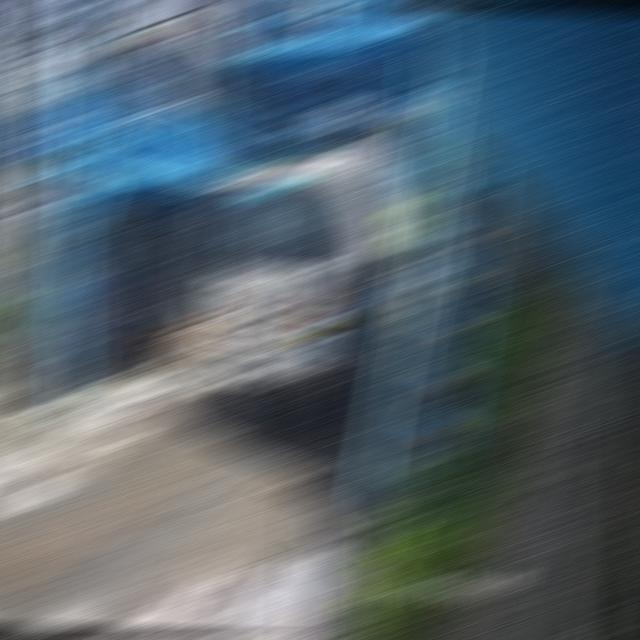cement_mixer_truck: (206, 141, 418, 428)
